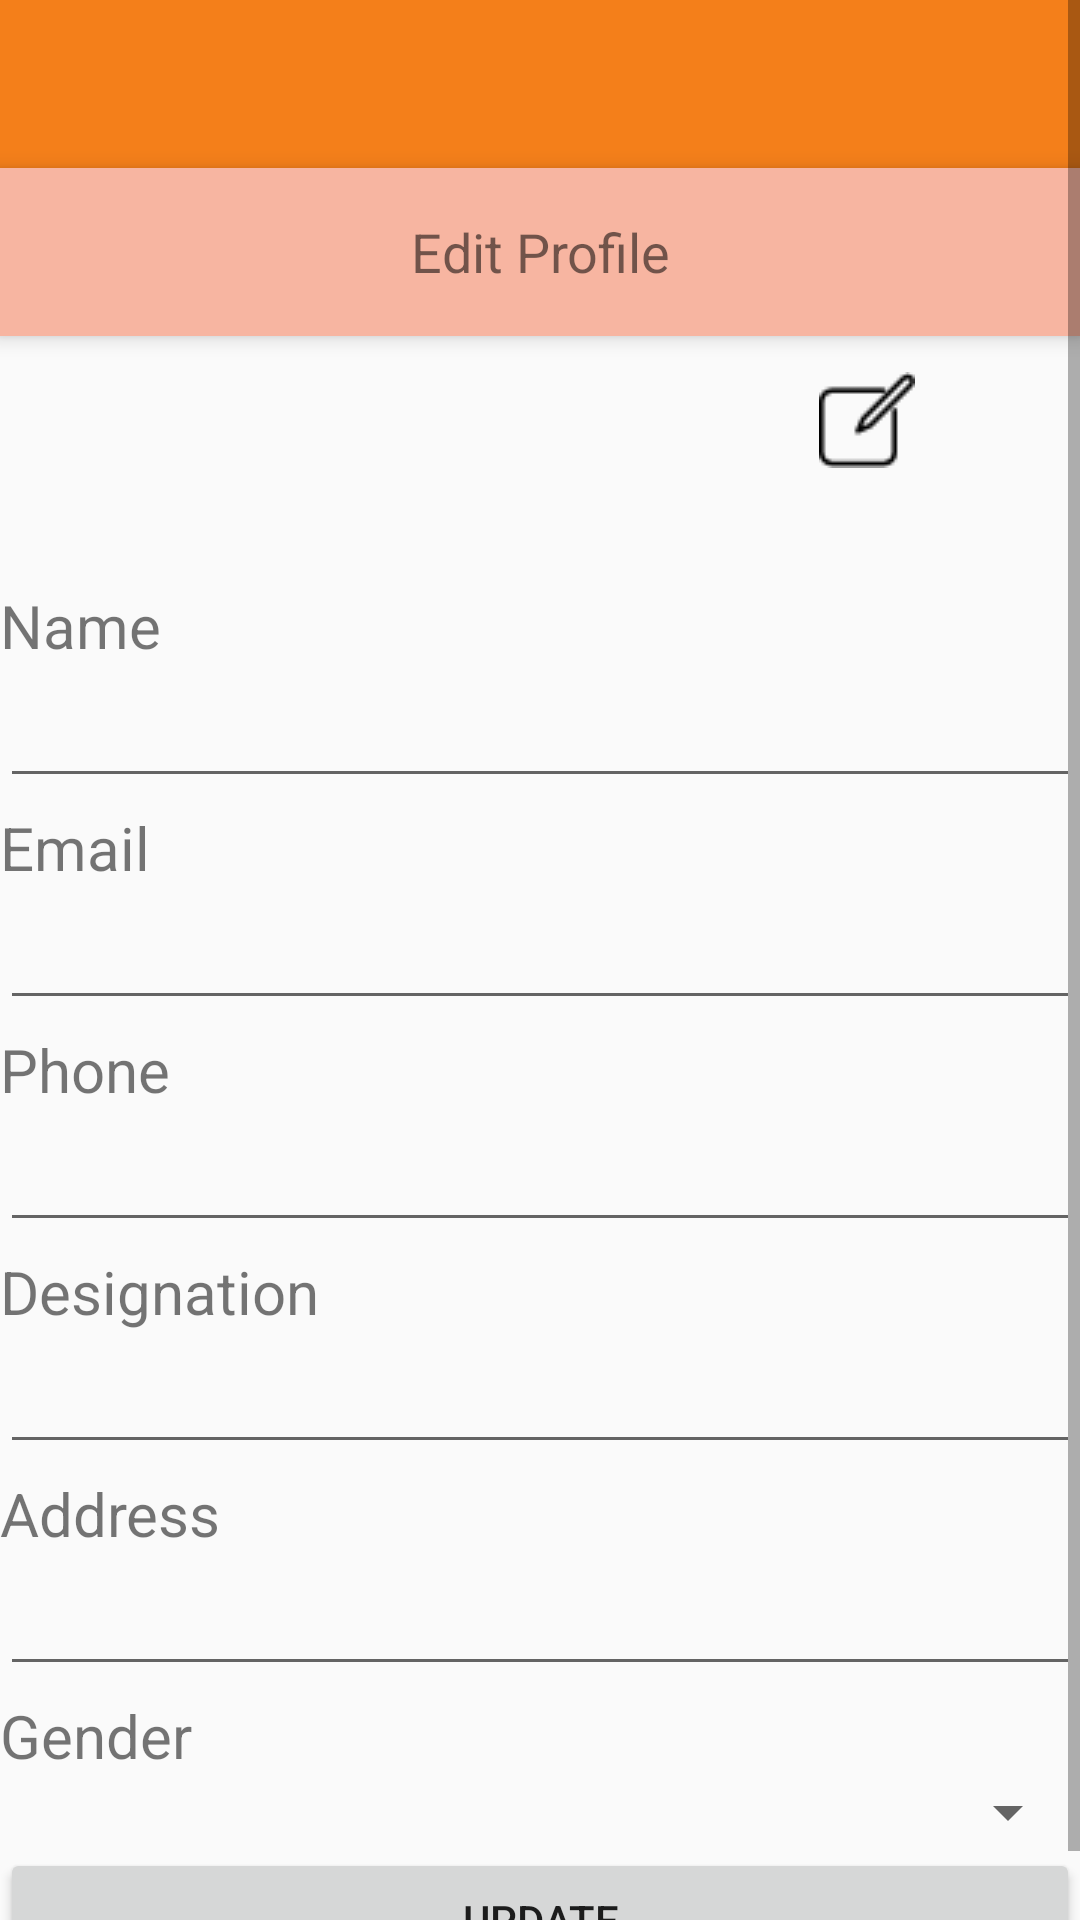

Point at icon controls on the screen. Image size 1080×1920, points as [x,y].
editbutton: [867,420]
